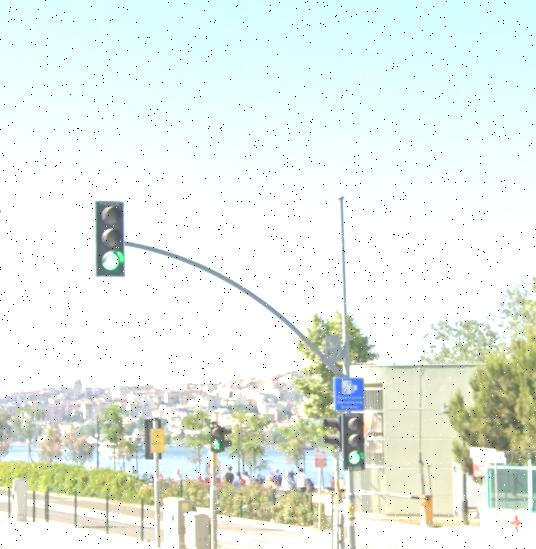greenlight: (98, 201, 126, 273), (344, 416, 366, 467)
